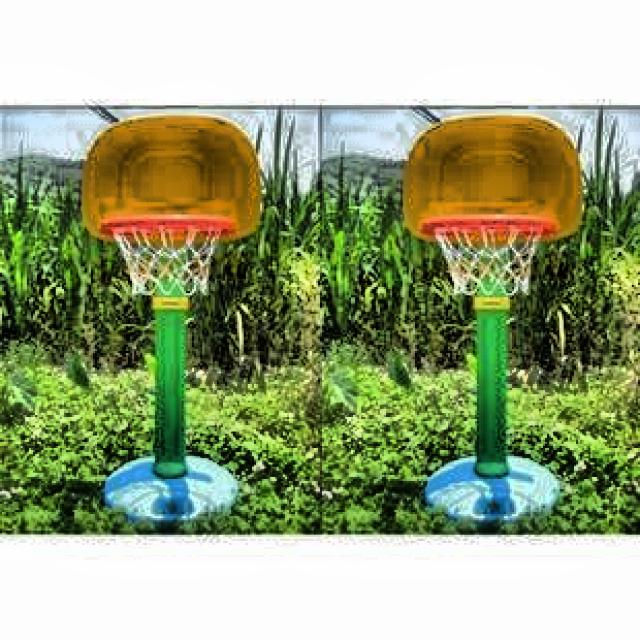rim: (106, 216, 228, 298), (431, 216, 548, 296)
